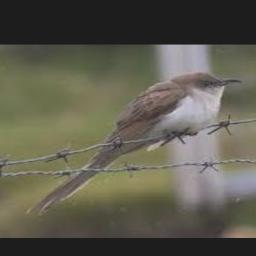Cuckoo: (25, 72, 242, 214)
